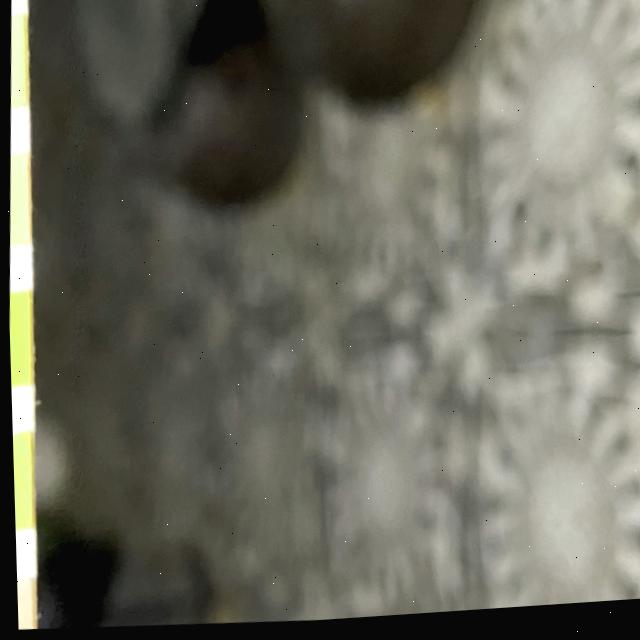Blood: (7, 293, 27, 383)
Ketone: (13, 576, 29, 629)
Protein: (8, 21, 24, 98)
SpGravity: (10, 435, 27, 528)
pH: (6, 157, 27, 239)
